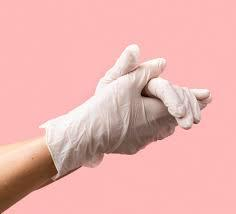Glove: (40, 45, 199, 179)
